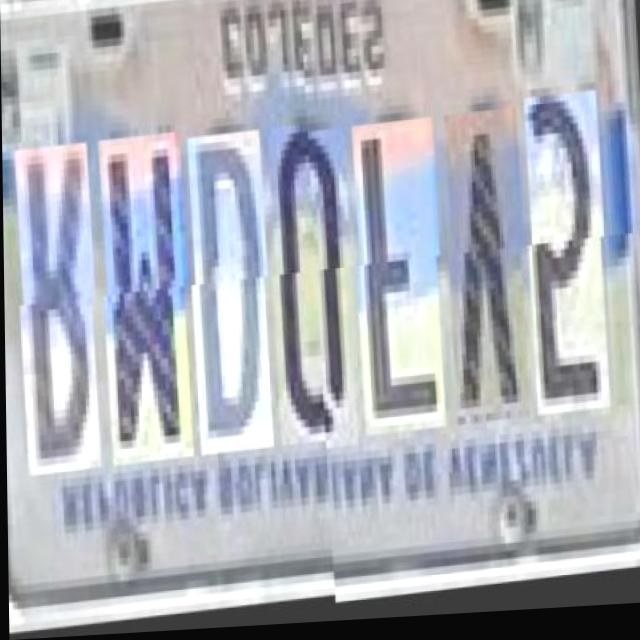0: (271, 128, 362, 452)
5: (528, 97, 615, 421)
d: (191, 136, 277, 460)
f: (355, 120, 450, 438)
m: (103, 135, 198, 469)
r: (19, 144, 106, 477)
v: (448, 112, 535, 429)
